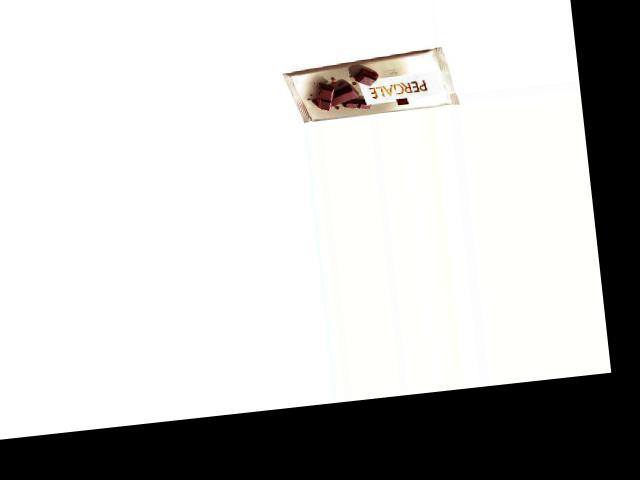chocolate: (278, 47, 461, 124)
